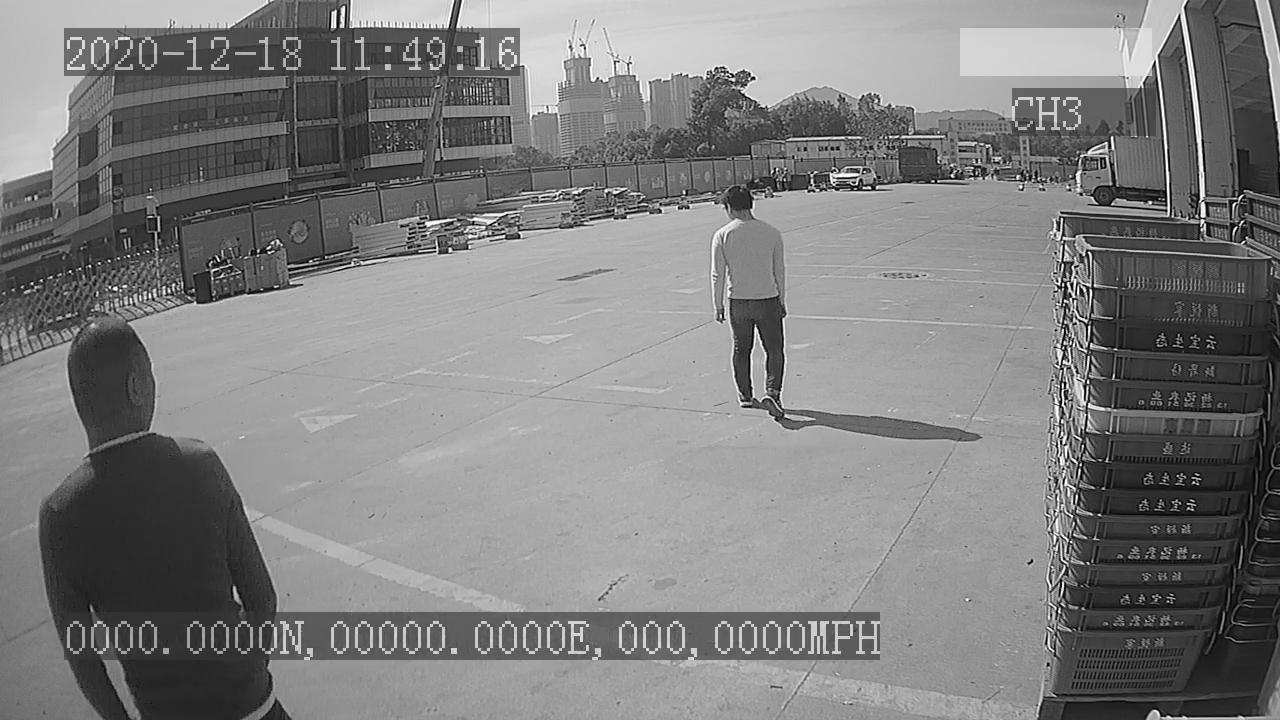person: (708, 179, 793, 424)
